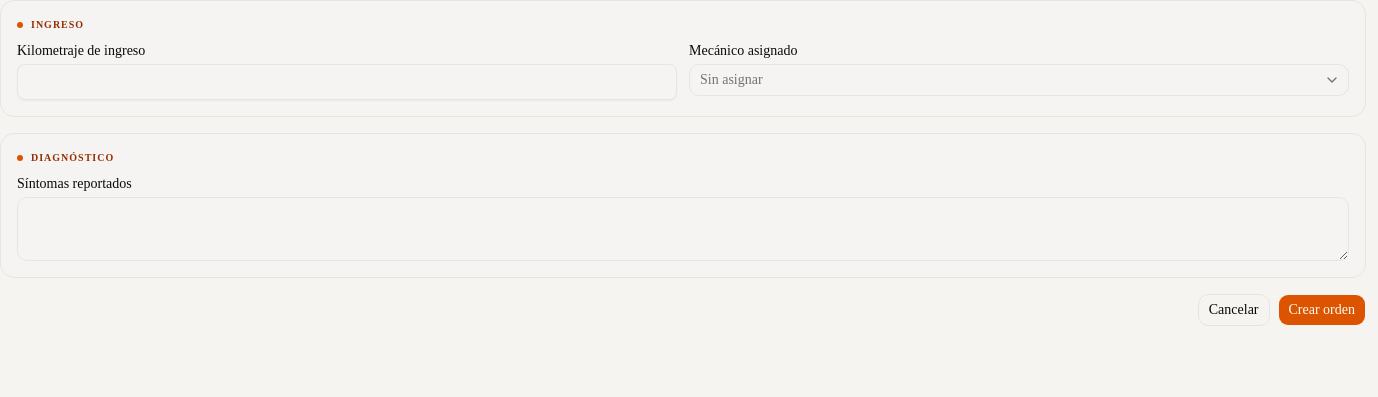
Test case: NuevaOrdenForm › shows the error message when the action returns one
Click the button "Crear orden". click: (1322, 310)
box: top-left (1278, 294), bottom-right (1366, 326)
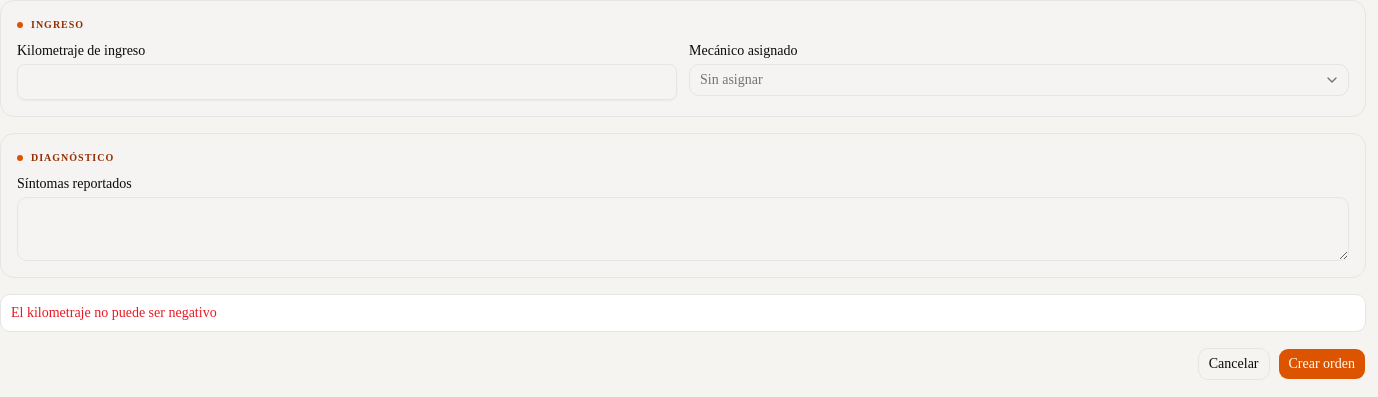
Expected: the message reads "El kilometraje no puede ser negativo", top-left (11, 305), bottom-right (217, 320)
